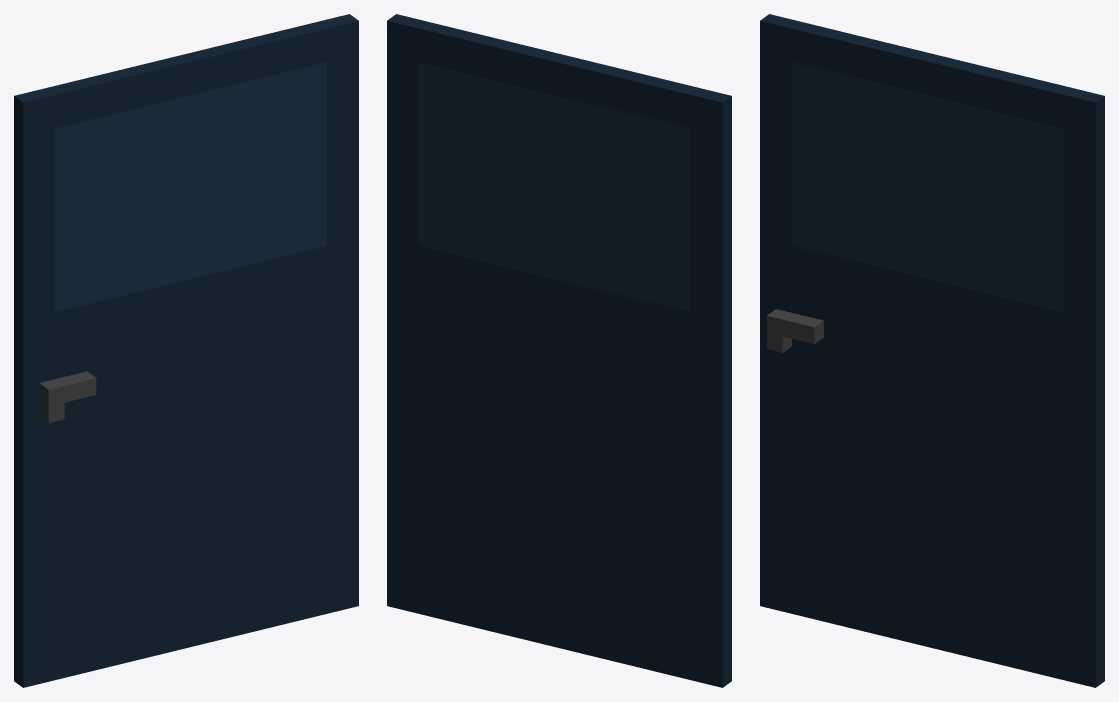
The model's file is ConstructionMaterials-9.obj.
3 renders of one model, left to right at view 1: azimuth 30°, elevation 25°; view 2: azimuth 150°, elevation 25°; view 3: azimuth 330°, elevation 25°, orthographic.
Size of the model in its own units: 2.1 by 3.5 by 0.2.
Materials: 1 (1 with a texture image).
